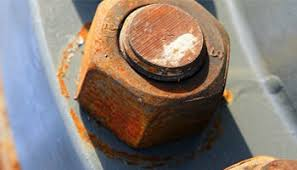rust: (62, 3, 239, 152)
